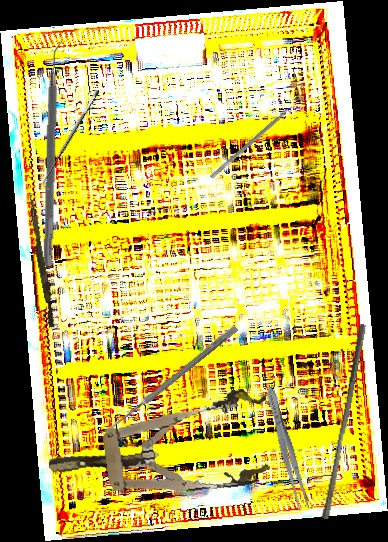Dressing Forceps: (261, 384, 313, 513)
Hook Surgical: (37, 88, 108, 192)
Pusher: (321, 322, 367, 521), (23, 191, 58, 328)
Spatula Surgical: (209, 100, 300, 183), (43, 40, 66, 267)
Speculum: (42, 385, 278, 513)
Surgical Spoon: (100, 324, 239, 438)
